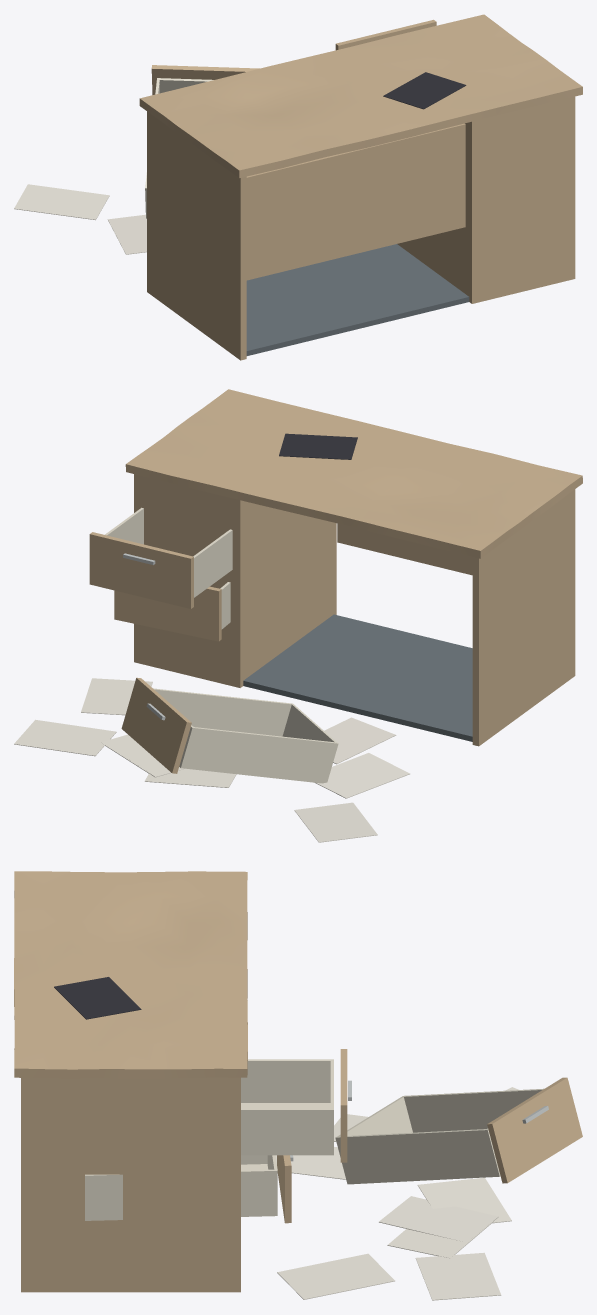
File: dispensing_desk_broken.fbx
3 views of the same model, one above another, from view 1: azimuth 30°, elevation 25°; view 2: azimuth 150°, elevation 25°; view 3: azimuth 270°, elevation 25° (orthographic). The views are drawn at different scales.
Parts seen in each view (by area): view 1: dispensing_desk_broken, dispensing_desk_broken_debris; view 2: dispensing_desk_broken, dispensing_desk_broken_debris; view 3: dispensing_desk_broken, dispensing_desk_broken_debris.
Boxes of the visible parts, x1=… form: dispensing_desk_broken: x1=139, y1=14, x2=582, y2=360; dispensing_desk_broken_debris: x1=14, y1=65, x2=259, y2=254; dispensing_desk_broken: x1=89, y1=389, x2=582, y2=746; dispensing_desk_broken_debris: x1=14, y1=677, x2=409, y2=842; dispensing_desk_broken: x1=14, y1=871, x2=351, y2=1292; dispensing_desk_broken_debris: x1=275, y1=1077, x2=582, y2=1300.
Size of the model in its own units: 149 by 75.54 by 171.
